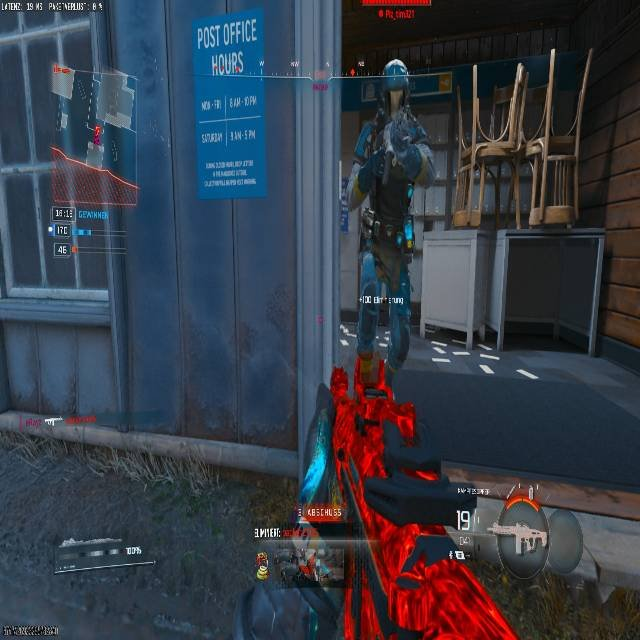head: (380, 59, 413, 112)
player: (345, 60, 430, 335), (301, 530, 319, 577)
